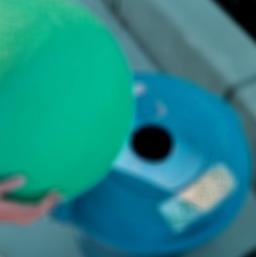algae: (0, 0, 131, 200)
